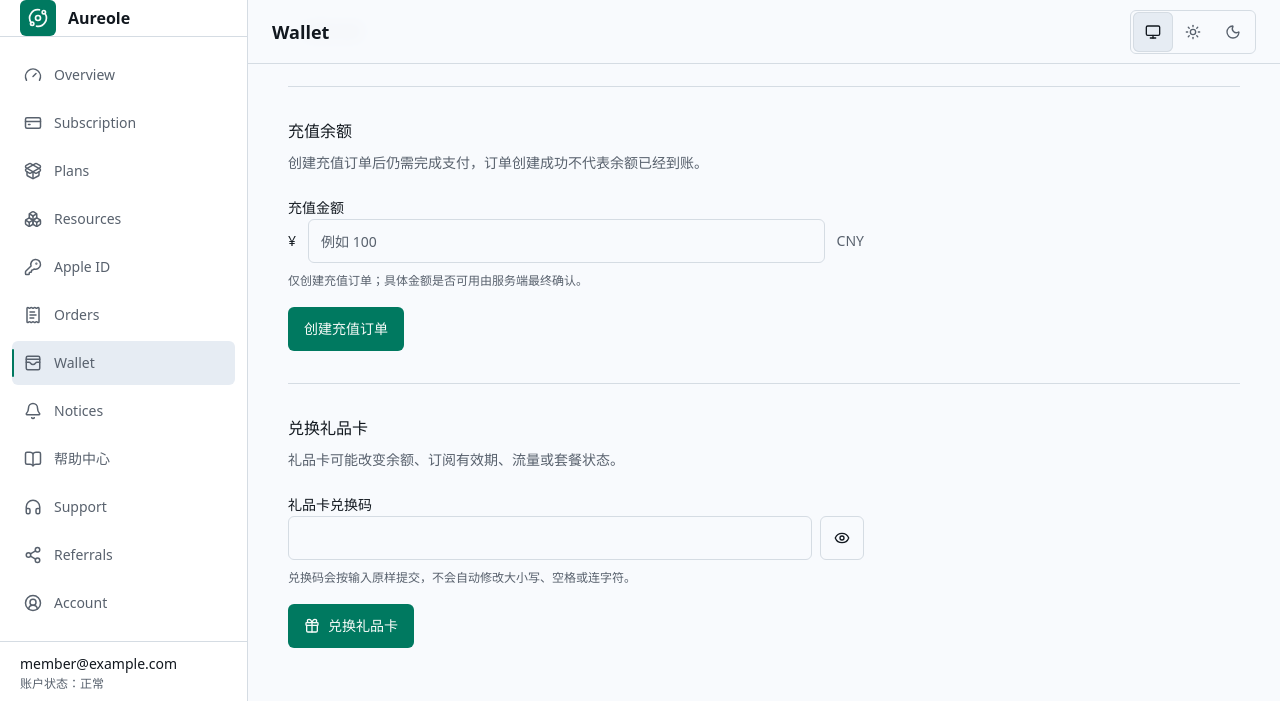
Gift Card confirmation and privacy › uses password semantics, explicit reveal, masked confirmation, and focus restoration
(page scrolled)
Type "Abcd-Efgh-Ijkl" into the password field labelled "礼品卡兑换码" at (550, 538), box top-left (288, 516), bottom-right (812, 560)
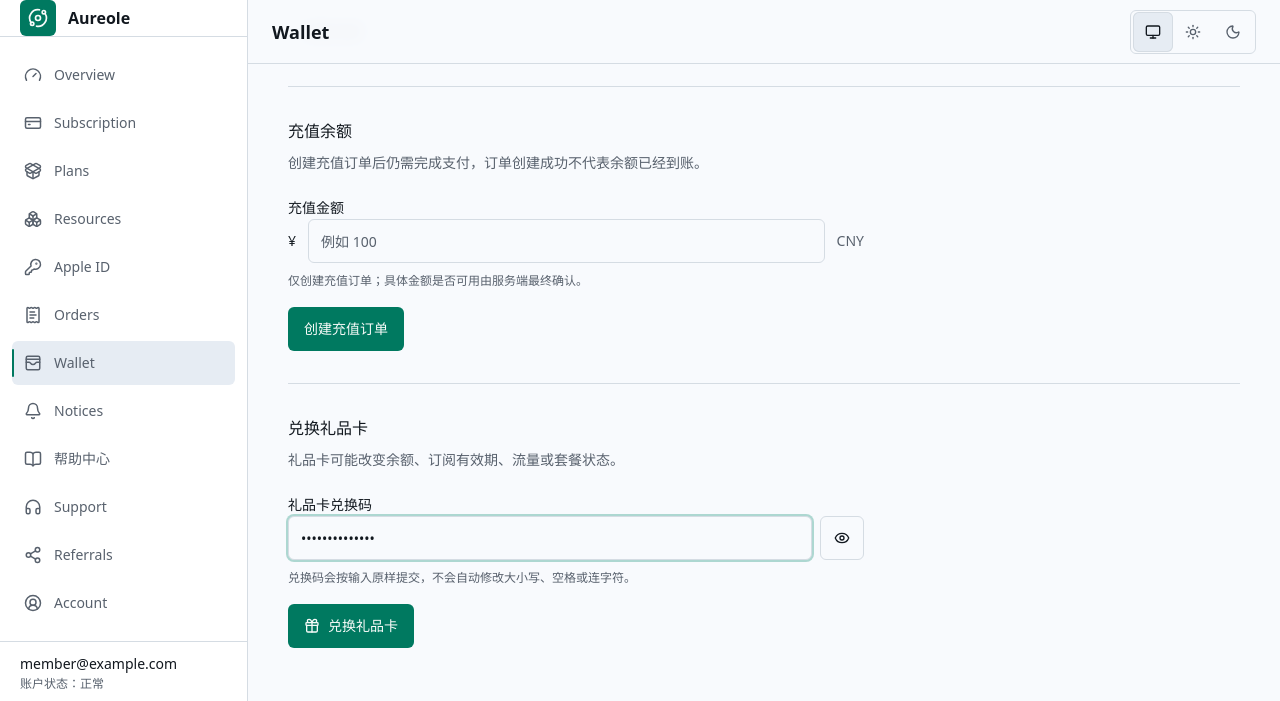
Click the button named "显示礼品卡兑换码" at (842, 538), box top-left (820, 516), bottom-right (864, 560)
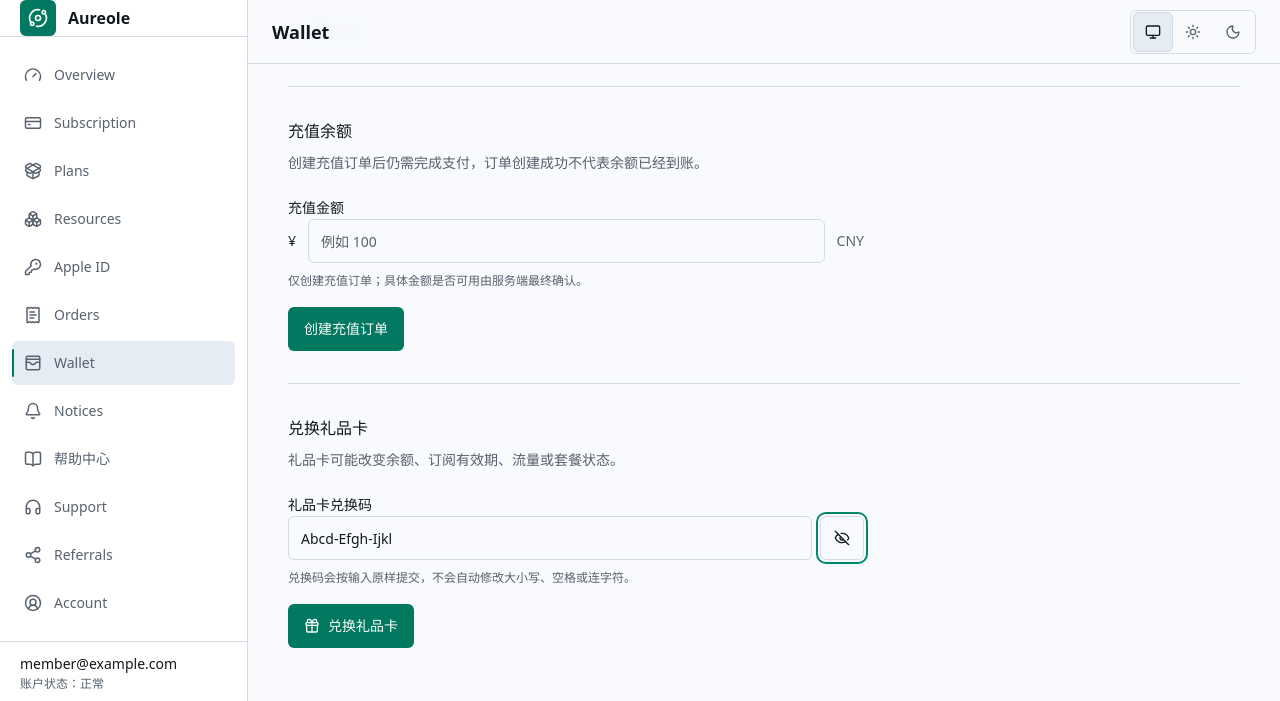
Check: the field labelled "礼品卡兑换码" shows its text, box top-left (288, 516), bottom-right (812, 560)
Click the button named "隐藏礼品卡兑换码" at (842, 538), box top-left (820, 516), bottom-right (864, 560)
(page scrolled)
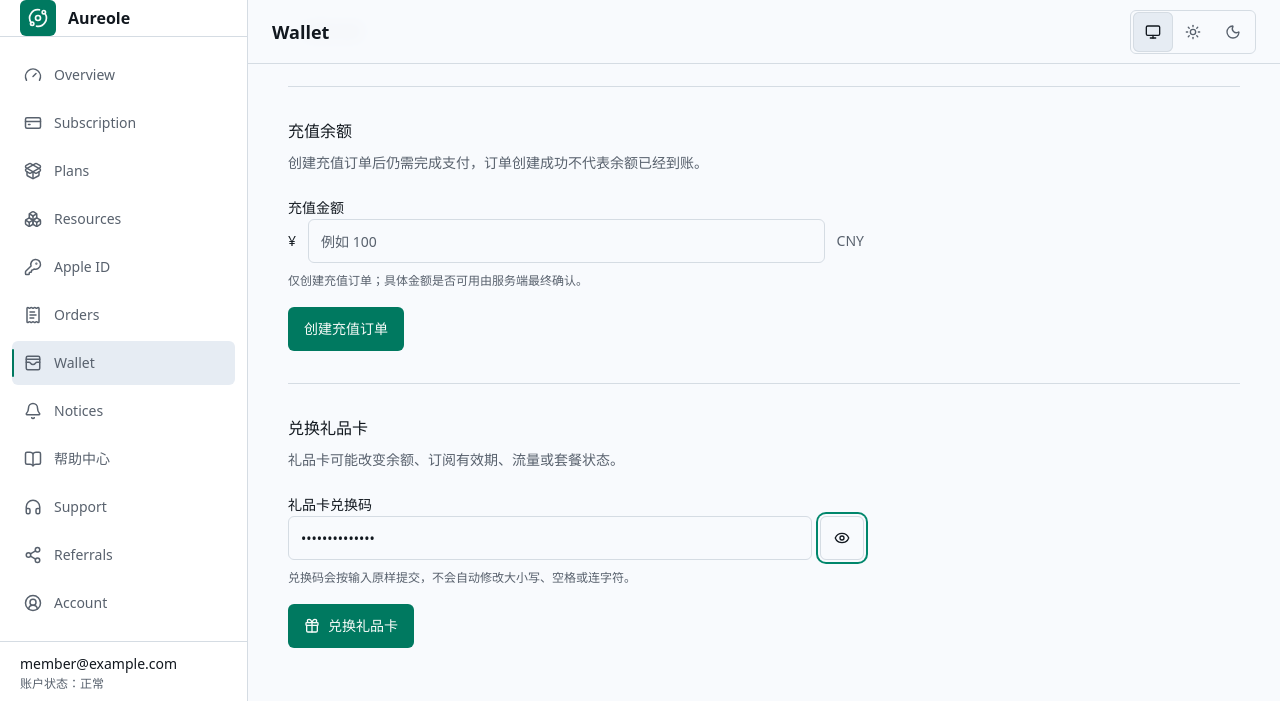
Check: the password field labelled "礼品卡兑换码" hides its text, box top-left (288, 516), bottom-right (812, 560)
Click the button "兑换礼品卡" at (351, 626), box top-left (288, 604), bottom-right (414, 648)
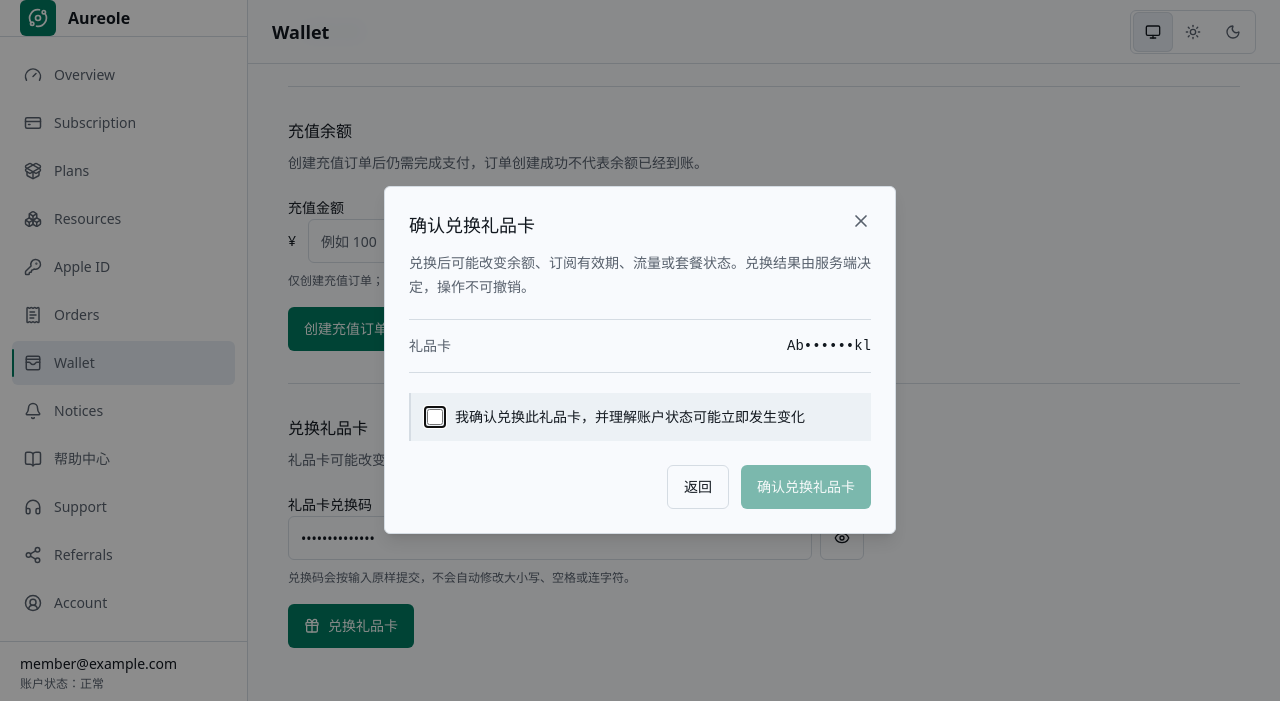
Check: the text "Abcd-Efgh-Ijkl" is not shown
Check: the text "Ab••••••kl" is shown, box top-left (787, 336), bottom-right (871, 356)
Check: the button "确认兑换礼品卡" is disabled, box top-left (741, 465), bottom-right (871, 509)
Click the checkbox at (435, 417), box top-left (427, 409), bottom-right (443, 425)
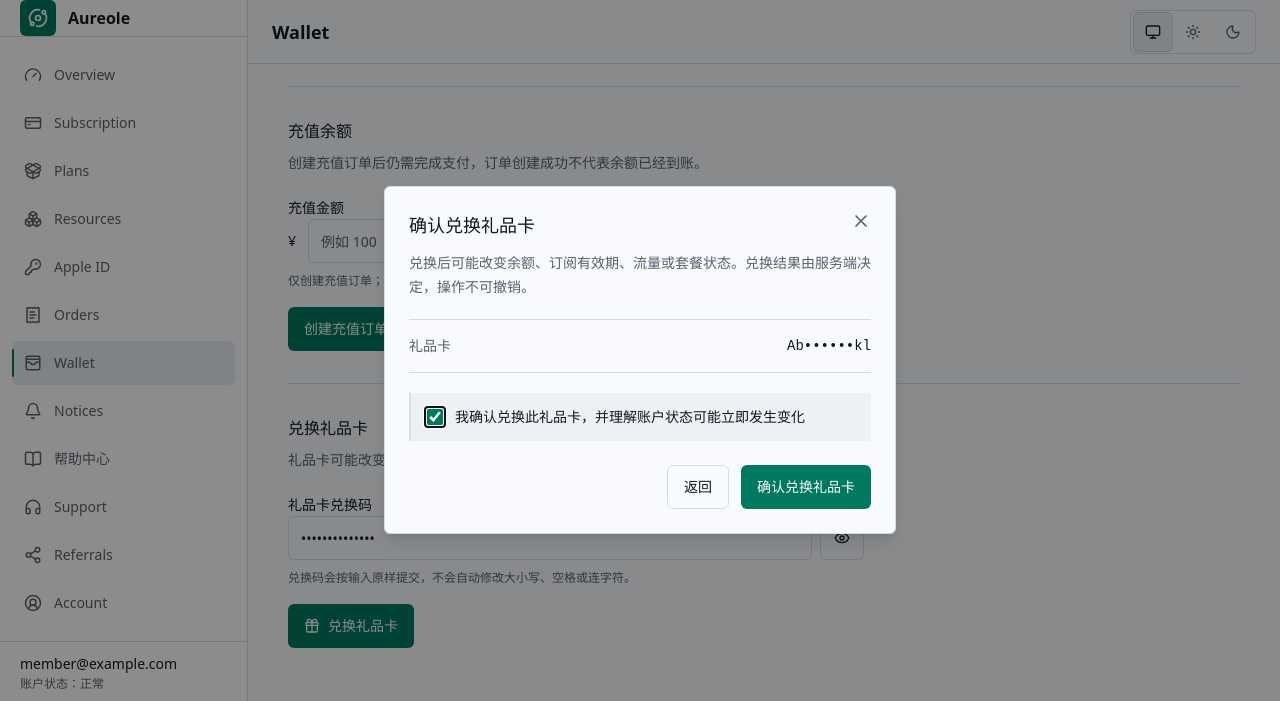
Check: the button "确认兑换礼品卡" is enabled, box top-left (741, 465), bottom-right (871, 509)
Click the button "返回" at (698, 487), box top-left (667, 465), bottom-right (729, 509)
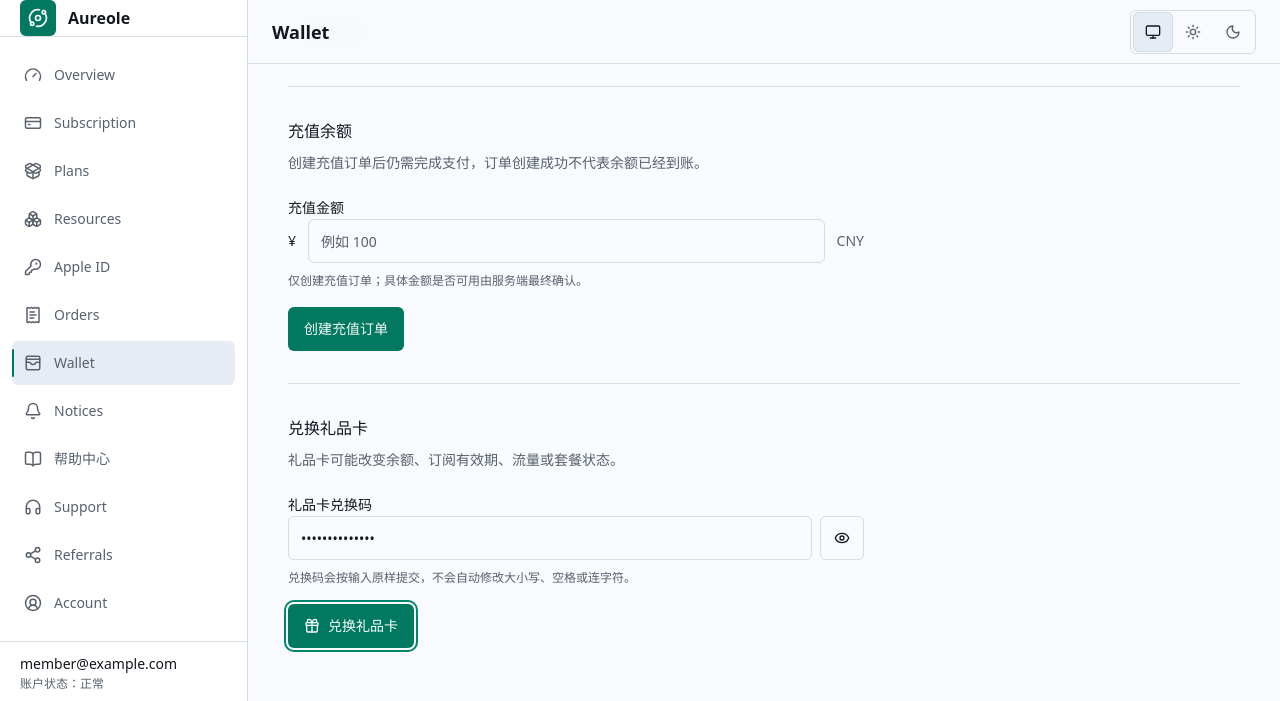
Check: the dialog is gone
